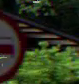No overtake: (0, 9, 32, 83)
